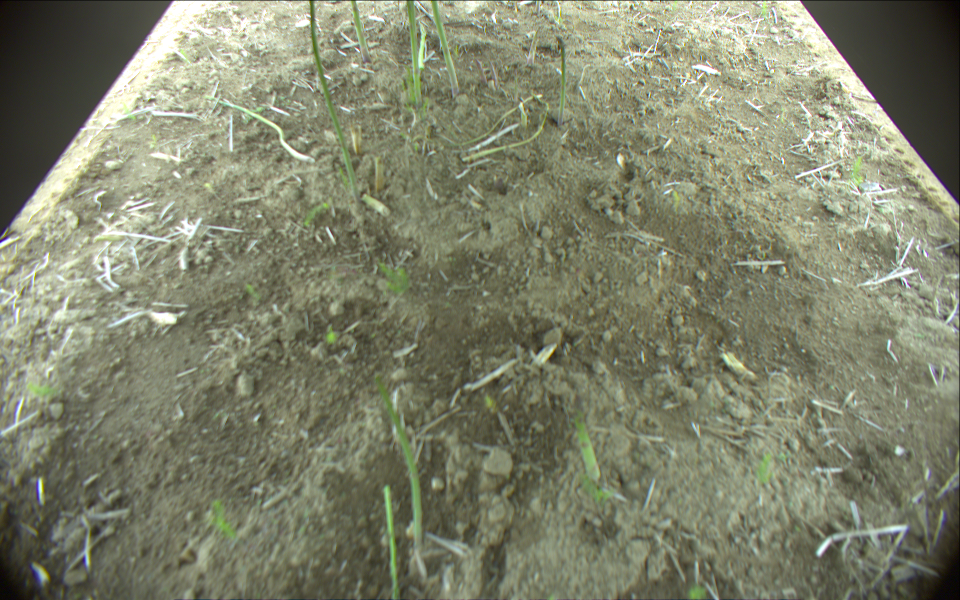aspa: (307, 1, 361, 200), (365, 370, 425, 548), (206, 93, 316, 163), (466, 90, 550, 163), (439, 94, 543, 147), (428, 1, 459, 96), (383, 483, 406, 600), (405, 1, 422, 109), (574, 416, 602, 481), (349, 1, 371, 64), (554, 35, 566, 125), (527, 25, 544, 63), (417, 19, 428, 68), (490, 60, 502, 91), (475, 60, 488, 82), (534, 1, 540, 13)
